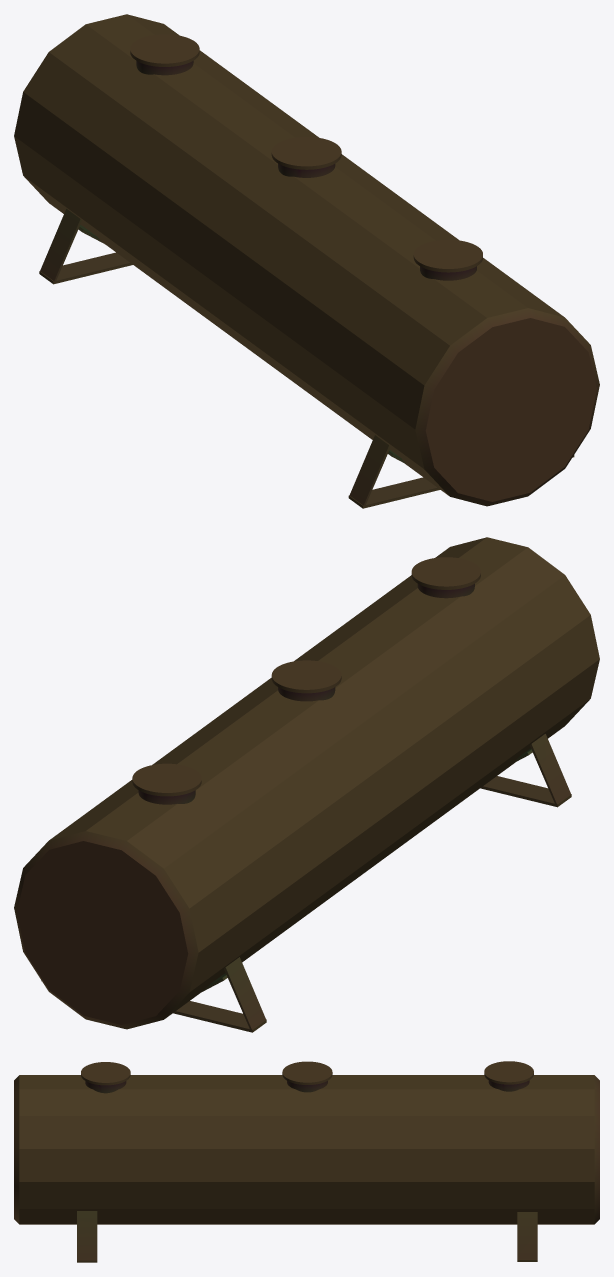
3 renders of one model, top to bottom at view 1: azimuth 30°, elevation 25°; view 2: azimuth 150°, elevation 25°; view 3: azimuth 270°, elevation 25°, orthographic. The views are drawn at different scales.
Parts seen in each view (by area): view 1: vessel, foot.001, foot, neck.002, neck.001, neck; view 2: vessel, foot.001, foot, neck.001, neck.002, neck; view 3: vessel, neck.001, neck, neck.002, foot, foot.001.
Boxes of the visible parts, x1,y1,x2,y2 form: vessel: (14, 14, 599, 506); foot.001: (39, 209, 132, 284); foot: (348, 435, 574, 508); neck.002: (130, 34, 199, 75); neck.001: (271, 137, 341, 177); neck: (413, 239, 482, 280); vessel: (14, 537, 599, 1029); foot.001: (41, 957, 266, 1032); foot: (480, 734, 571, 807); neck.001: (271, 660, 341, 701); neck.002: (132, 763, 201, 804); neck: (411, 557, 480, 598); vessel: (14, 1075, 599, 1224); neck.001: (282, 1061, 332, 1092); neck: (81, 1062, 130, 1093); neck.002: (484, 1061, 533, 1091); foot: (77, 1211, 97, 1262); foot.001: (517, 1212, 537, 1261).
Size of the model in its own units: 1.81 by 1.73 by 6.01.
